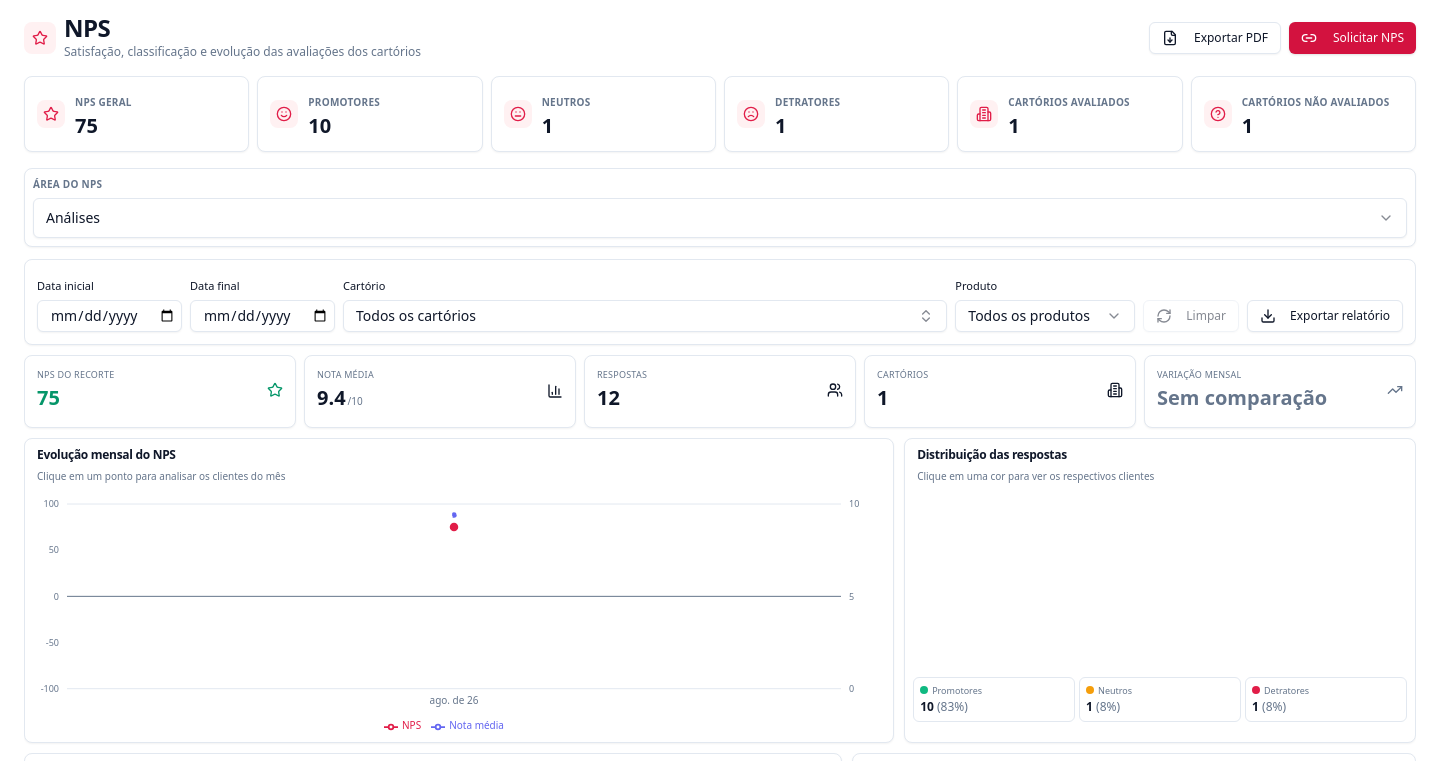
Scenario: CS/CX visitas, solicitações e NPS — permissões › permite solicitar NPS sem liberar inclusão ou importação de respostas
Click the button "Solicitar NPS" at (1352, 38), box [1289,22,1416,54]
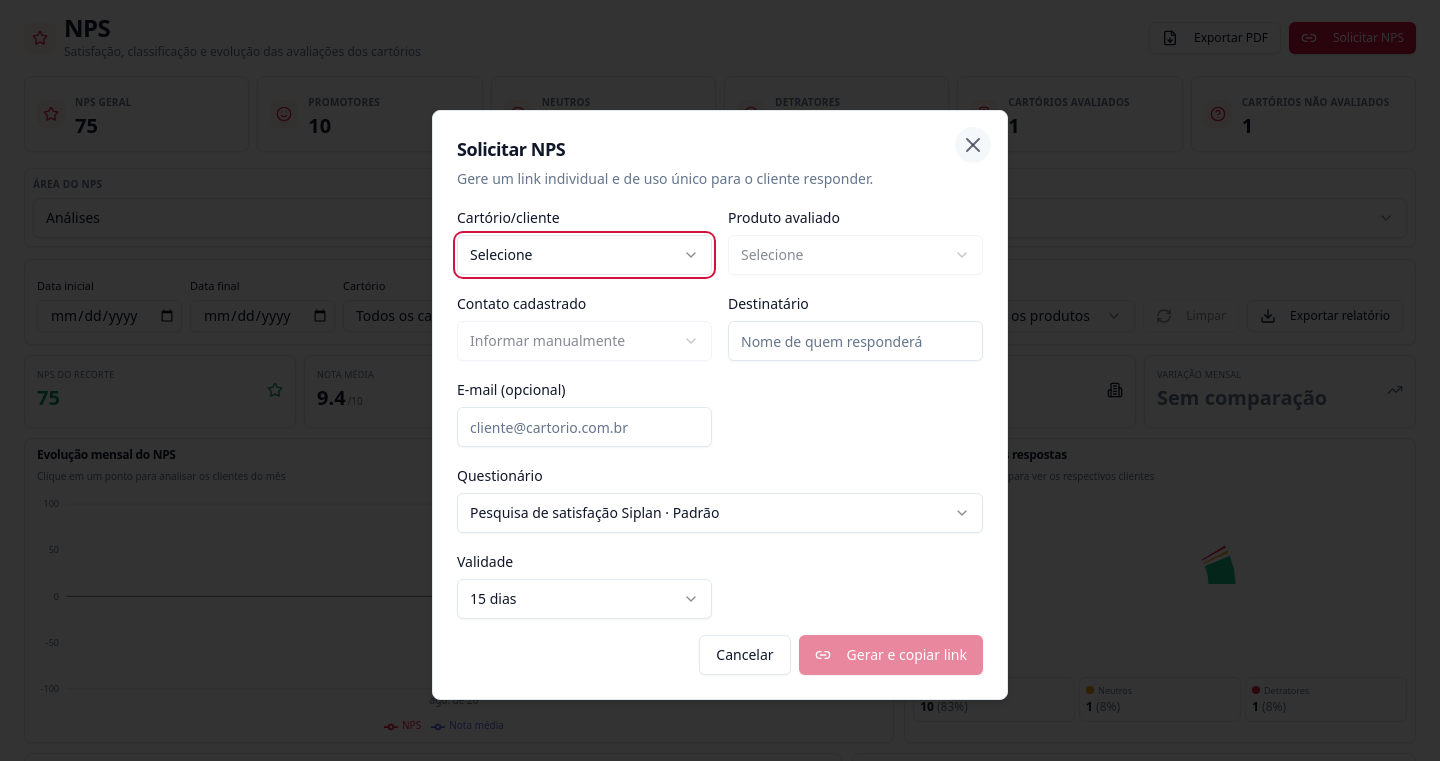
Expected: the text "Gere um link individual" is shown, [457,169,873,188]
Expected: the text "Pesquisa de satisfação Siplan · Padrão" is shown, [470,503,719,523]
